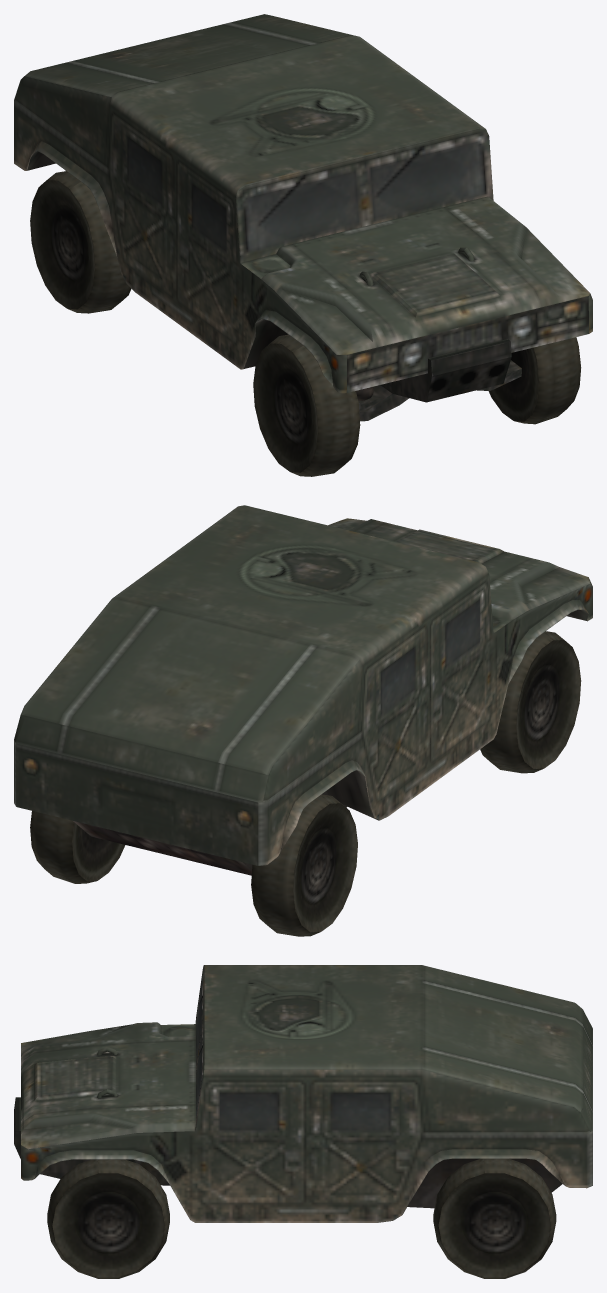
3 renders of one model, top to bottom at view 1: azimuth 30°, elevation 25°; view 2: azimuth 150°, elevation 25°; view 3: azimuth 270°, elevation 25°, orthographic. The views are drawn at different scales.
Visible parts, largest first — view 1: Vehicles_Mesh; view 2: Vehicles_Mesh; view 3: Vehicles_Mesh.
Boxes of the visible parts, <box> form: Vehicles_Mesh: <box>14,14,592,476</box>; Vehicles_Mesh: <box>14,505,592,936</box>; Vehicles_Mesh: <box>14,965,592,1278</box>.
Bounding box in the file's own units: 225 × 200 × 491.
